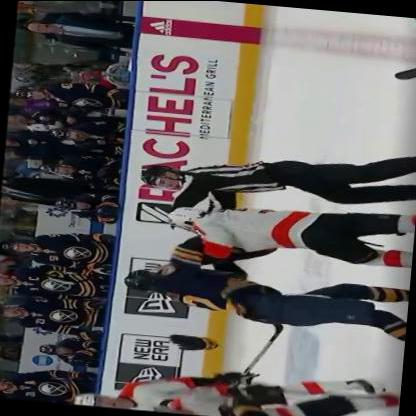voilence: (121, 192, 416, 335)
